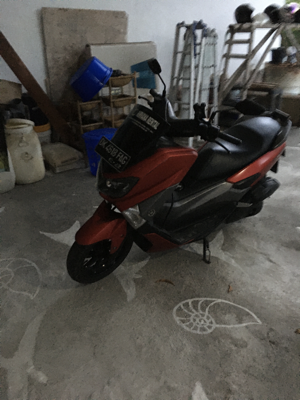moto: (74, 88, 289, 307)
